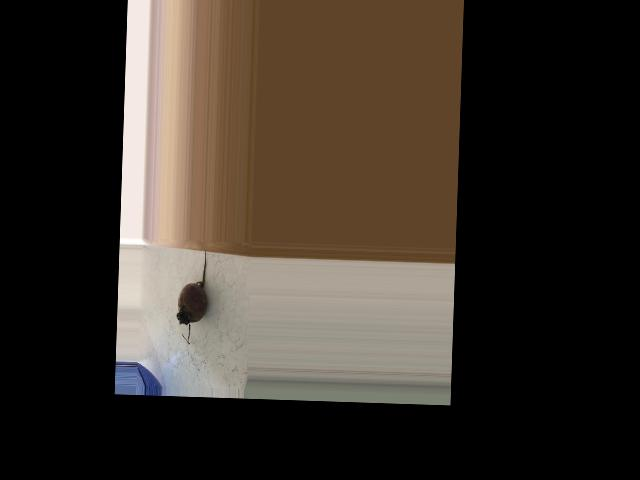beet: (176, 246, 209, 344)
